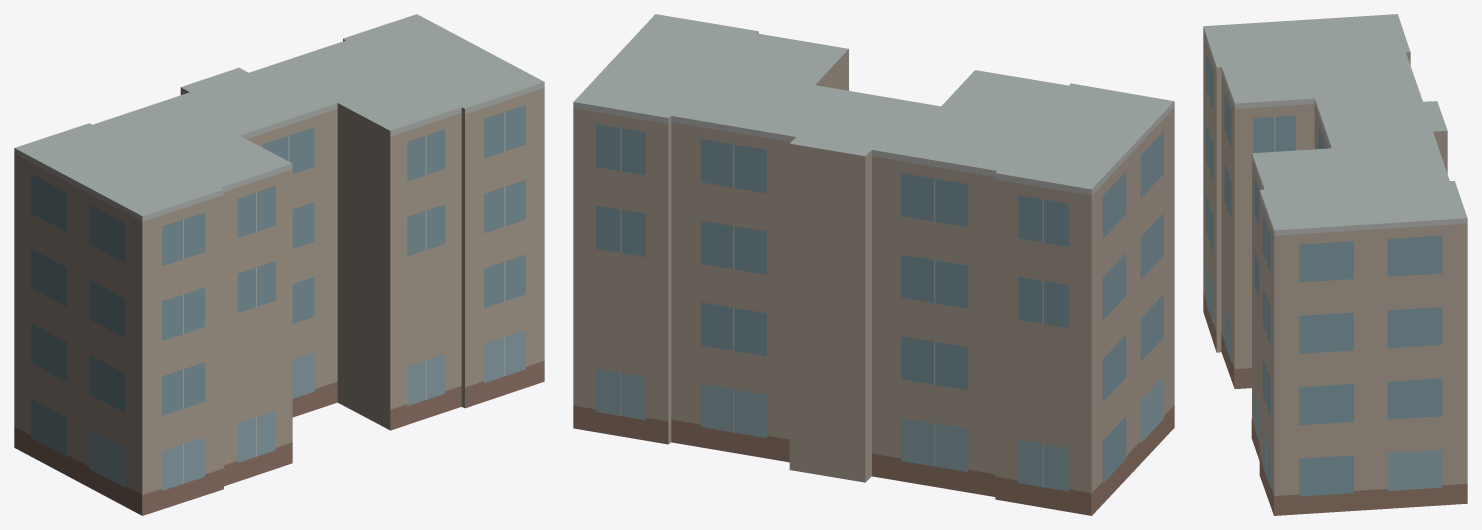
Rendered from survey-upis-32722050.glb.
3 renders of one model, left to right at view 1: azimuth 30°, elevation 25°; view 2: azimuth 150°, elevation 25°; view 3: azimuth 270°, elevation 25°, orthographic. The views are drawn at different scales.
Parts seen in each view (by area): view 1: survey-upis-32722050.tmp; view 2: survey-upis-32722050.tmp; view 3: survey-upis-32722050.tmp.
Boxes of the visible parts, x1,y1,x2,y2 form: survey-upis-32722050.tmp: [14, 14, 544, 515]; survey-upis-32722050.tmp: [573, 14, 1174, 515]; survey-upis-32722050.tmp: [1203, 14, 1467, 515].
Size of the model in its own units: 20.98 by 12.9 by 10.83.
